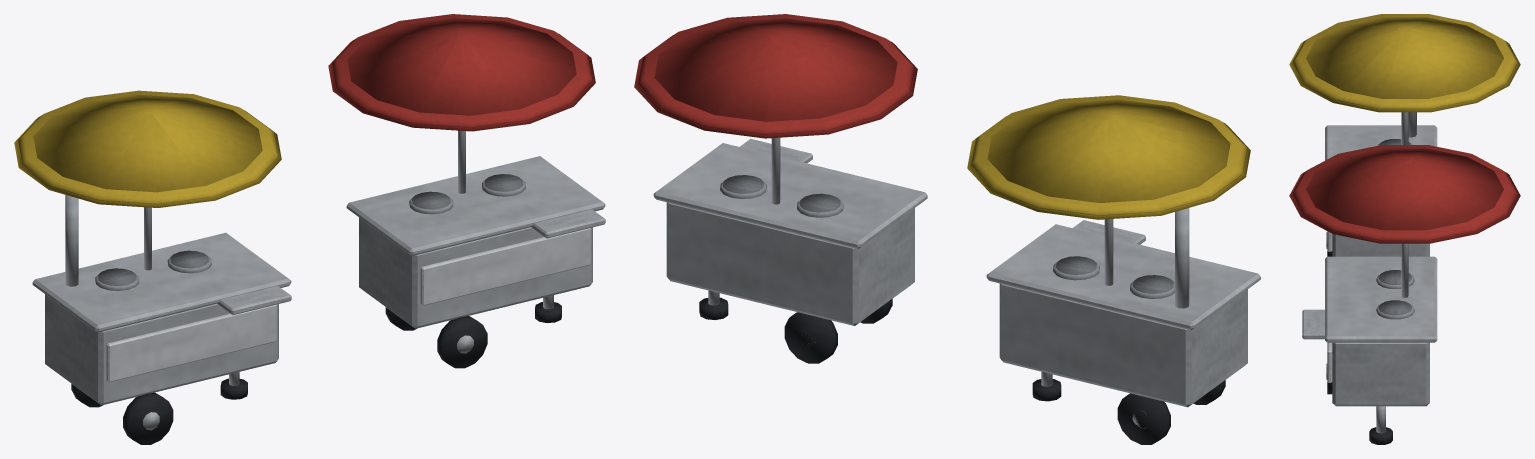
File: food_cart.glb
The picture shows the model from 3 angles, left to right: view 1: azimuth 30°, elevation 25°; view 2: azimuth 150°, elevation 25°; view 3: azimuth 270°, elevation 25°; orthographic projection. The views are drawn at different scales.
Visible parts, largest first — view 1: food_cart_v1, food_cart_v2; view 2: food_cart_v1, food_cart_v2; view 3: food_cart_v2, food_cart_v1.
Part boxes in pixels (<box>): food_cart_v1: <box>14,90,291,444</box>; food_cart_v2: <box>328,14,605,368</box>; food_cart_v1: <box>967,95,1260,444</box>; food_cart_v2: <box>634,14,927,363</box>; food_cart_v2: <box>1289,145,1520,444</box>; food_cart_v1: <box>1289,14,1520,256</box>.
Bounding box in the file's own units: 4.49 × 2.3 × 1.94.
Materials: 2 (2 with a texture image).
